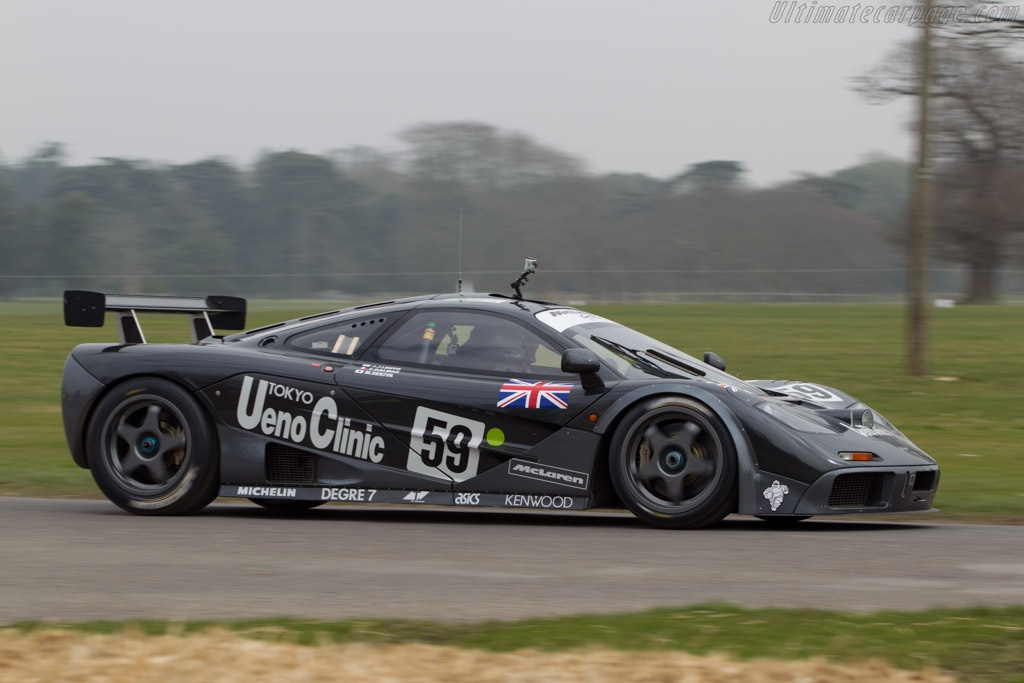racing car: (62, 262, 966, 545)
